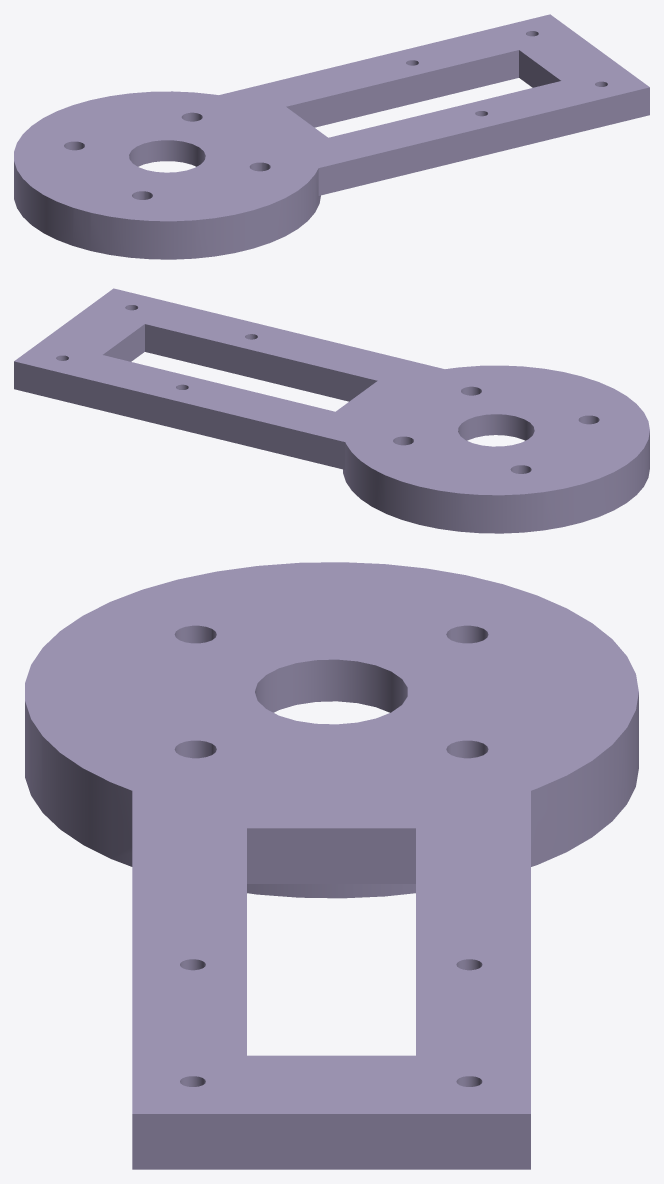
Rendered from mounting_plate.dae.
3 renders of one model, top to bottom at view 1: azimuth 30°, elevation 25°; view 2: azimuth 150°, elevation 25°; view 3: azimuth 270°, elevation 25°, orthographic. The views are drawn at different scales.
Parts seen in each view (by area): view 1: mounting_plate; view 2: mounting_plate; view 3: mounting_plate.
Boxes of the visible parts, x1,y1,x2,y2 form: mounting_plate: (14, 14, 649, 259); mounting_plate: (14, 288, 649, 533); mounting_plate: (25, 562, 638, 1169).
Bounding box in the file's own units: 0.17 × 0.0799 × 0.011.
